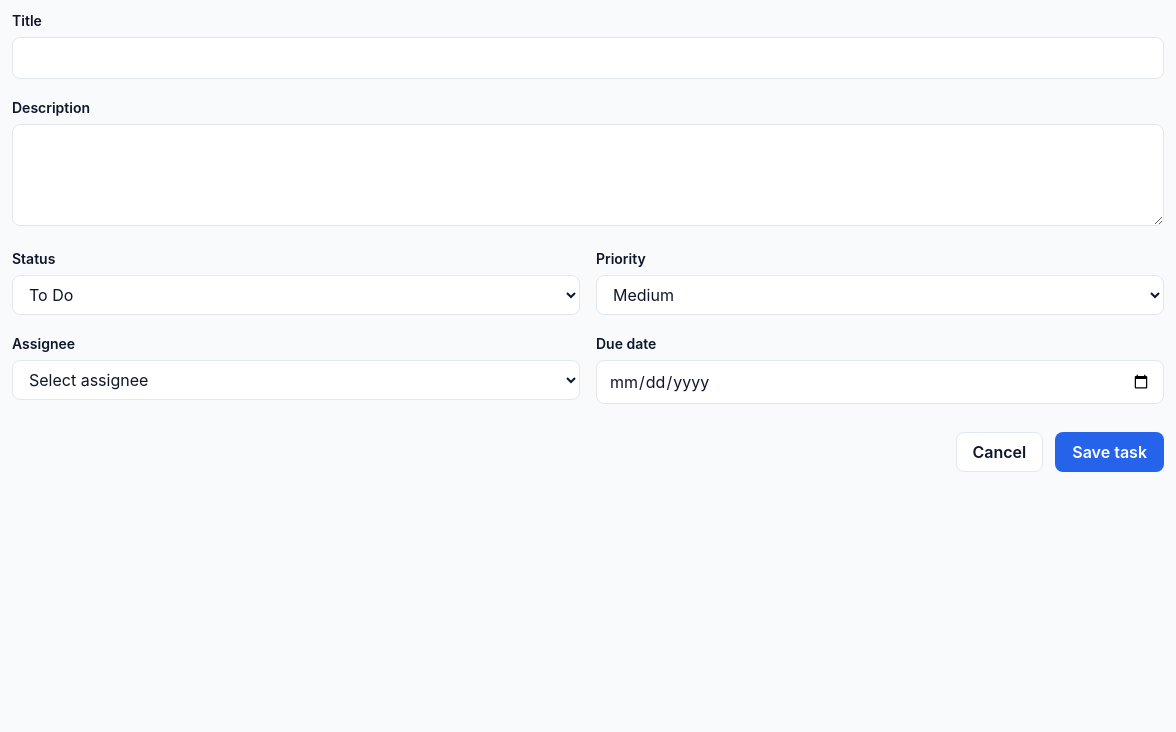
Test: TaskForm › shows validation errors for required fields
The width and height of the screenshot is (1176, 732).
Click the button "Save task".
click(1110, 452)  # box 1055,432 -> 1164,472
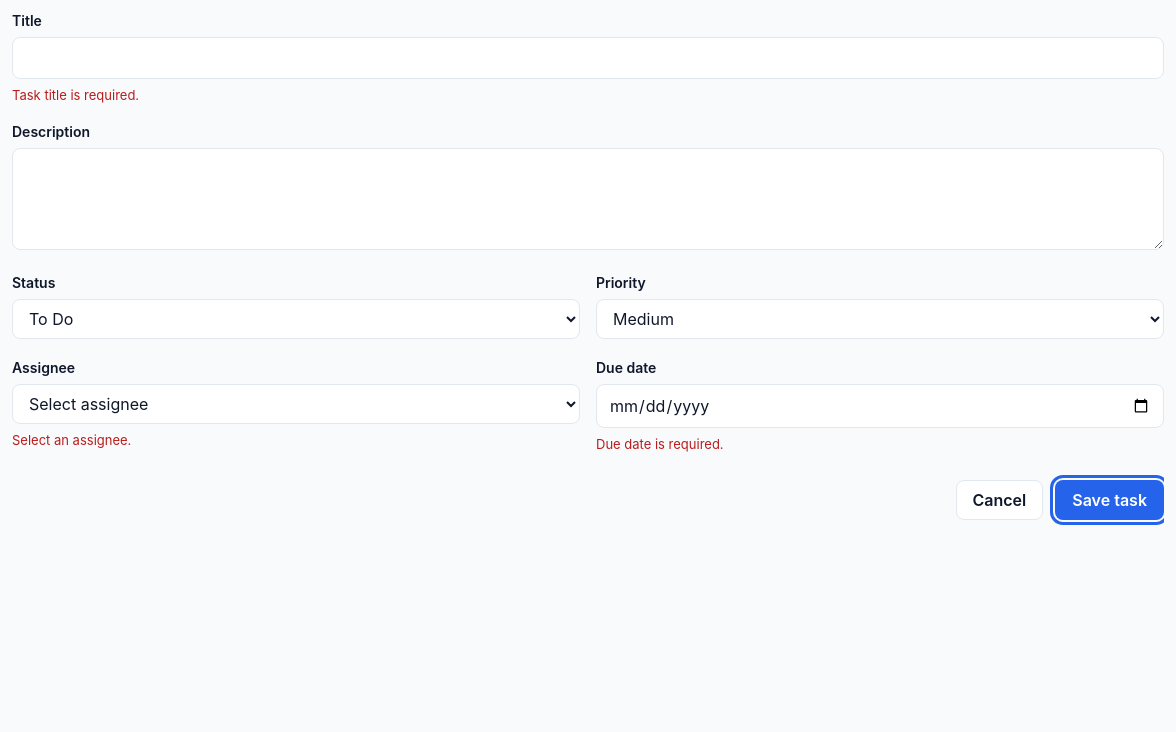
Now the text "Task title is required." is shown, box 12,87 -> 139,103
Now the text "Select an assignee." is shown, box 12,432 -> 131,448
Now the text "Due date is required." is shown, box 596,436 -> 724,452
